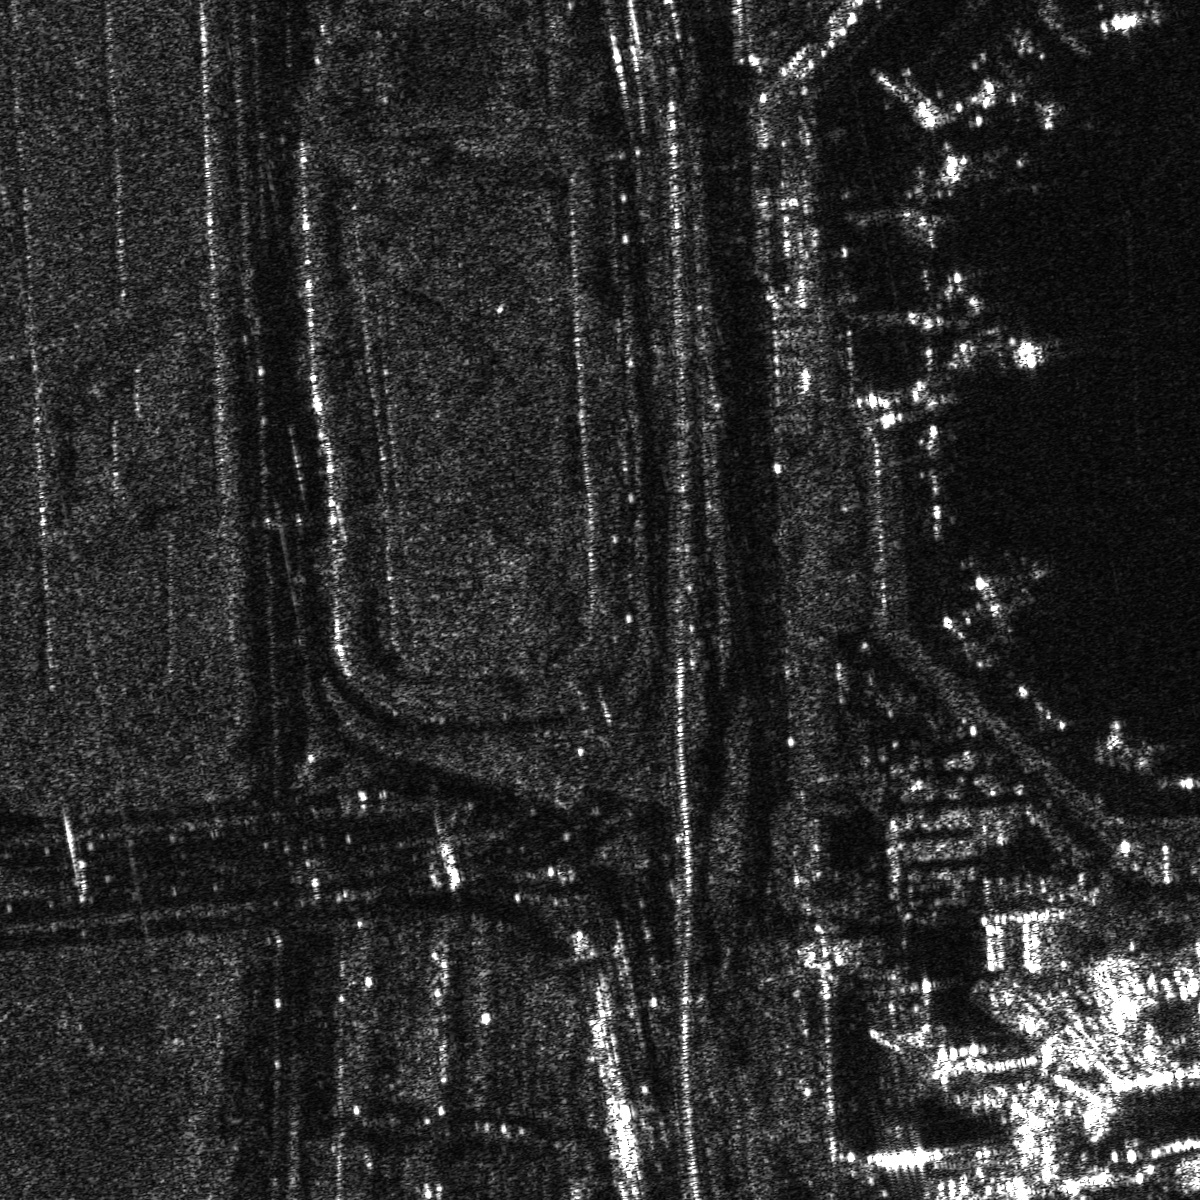A220: (962, 562, 1051, 635)
